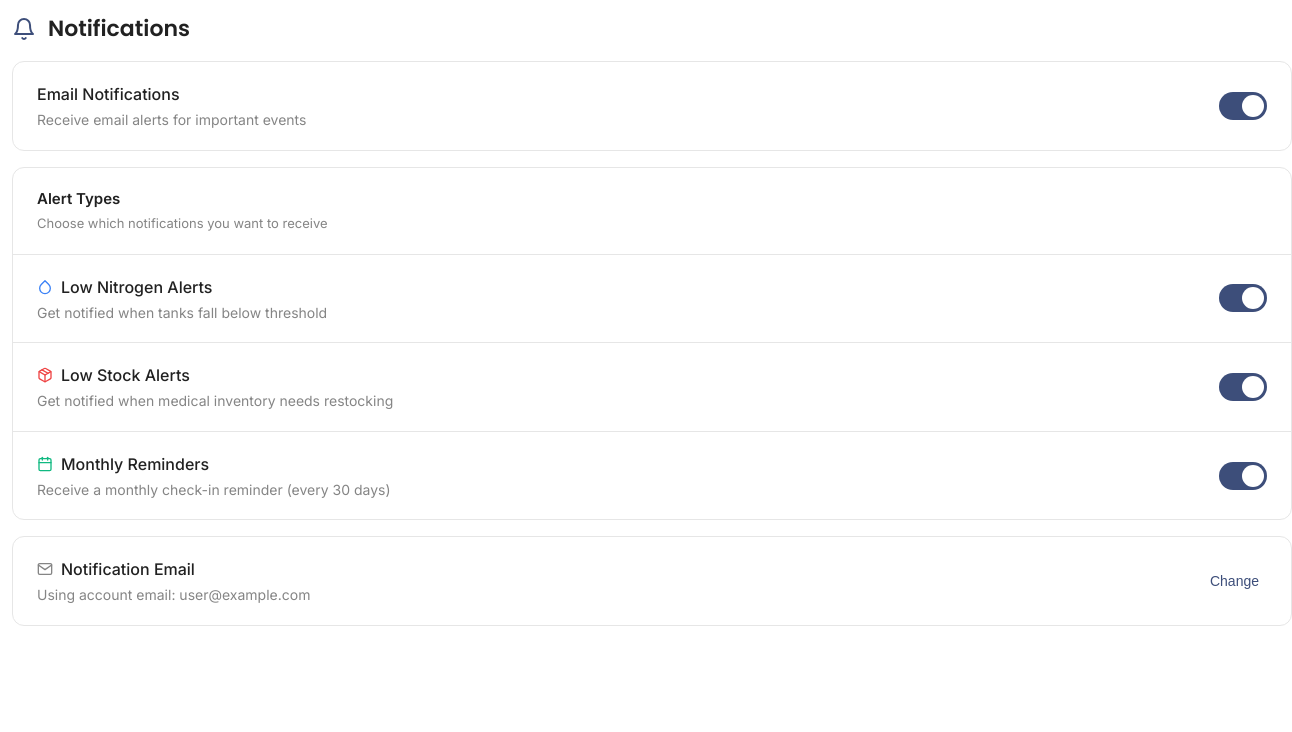
Scenario: NotificationSettings Component › email override input › shows email input when Change button is clicked
Click the button "Change". click: x=1234, y=581
box: [1202, 565, 1267, 597]
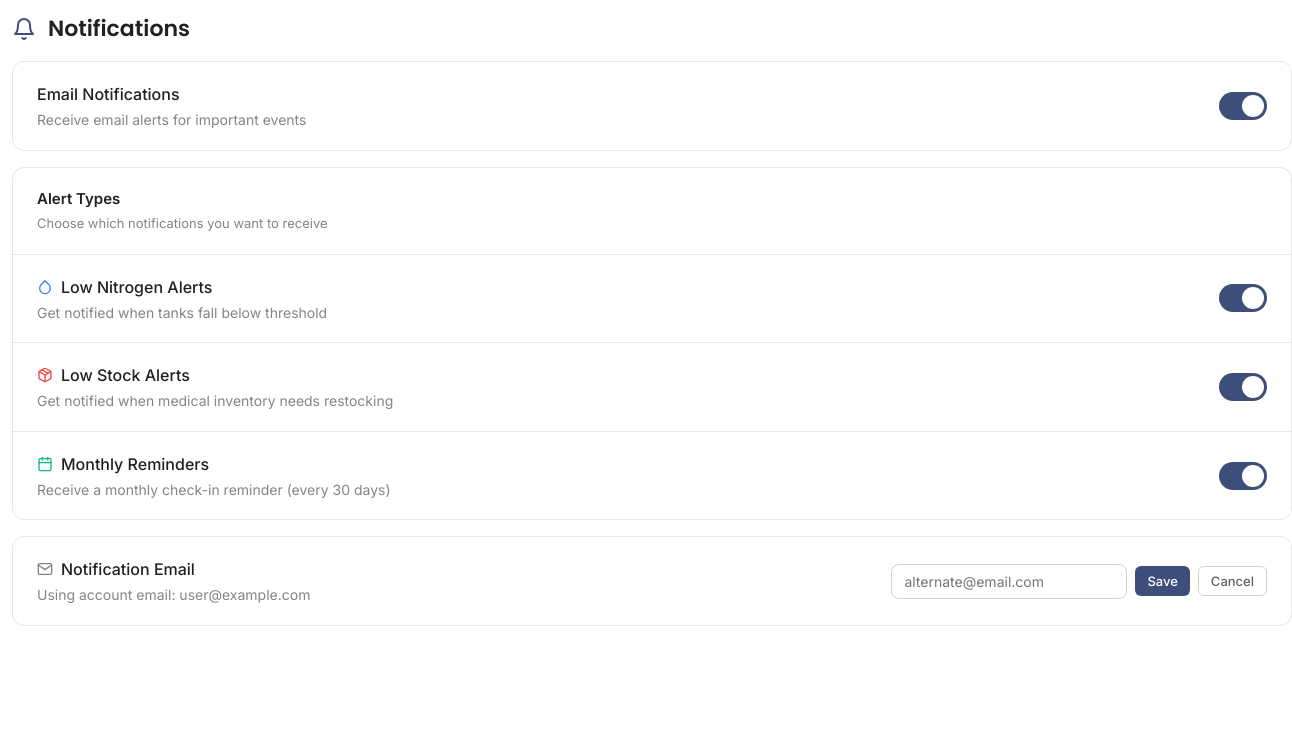
expect the field with placeholder "alternate@email.com" is shown: met, box [891, 564, 1127, 599]
expect the button "Save" is shown: met, box [1135, 566, 1190, 596]
expect the button "Cancel" is shown: met, box [1198, 566, 1267, 596]
